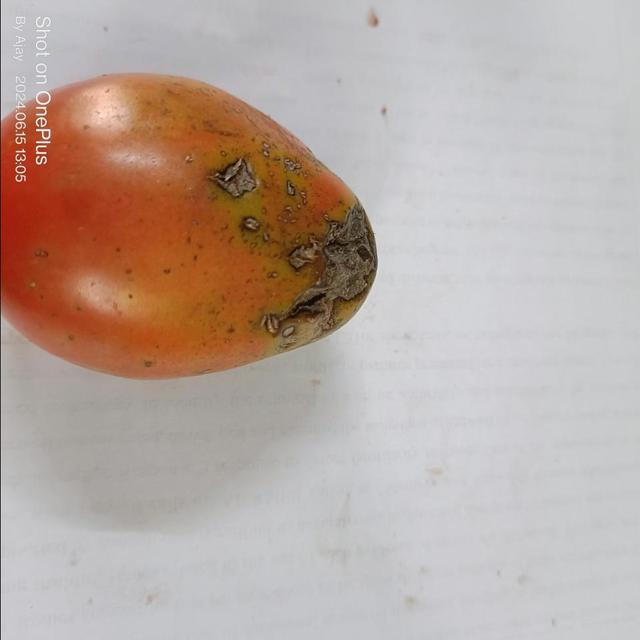Bacterial Spot Fruit: (32, 33, 209, 180)
